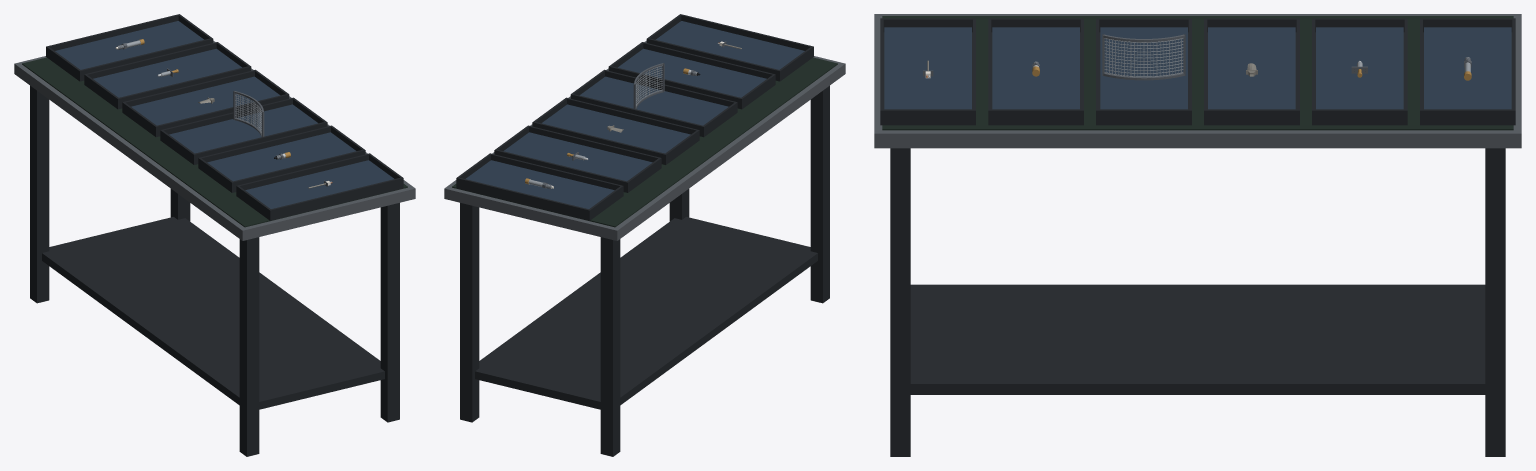
File: piezas.glb
3 views of the same model, side by side, from view 1: azimuth 30°, elevation 25°; view 2: azimuth 150°, elevation 25°; view 3: azimuth 270°, elevation 25° (orthographic). The views are drawn at different scales.
Visible parts, largest first — view 1: banco_componentes, pieza_malla; view 2: banco_componentes, pieza_malla; view 3: banco_componentes, pieza_malla.
Part boxes in pixels (bbox=[...]): banco_componentes: bbox=[14, 14, 415, 456]; pieza_malla: bbox=[233, 91, 264, 136]; banco_componentes: bbox=[444, 14, 845, 456]; pieza_malla: bbox=[633, 63, 664, 109]; banco_componentes: bbox=[874, 14, 1521, 456]; pieza_malla: bbox=[1102, 34, 1185, 80].
Size of the model in its own units: 0.7 by 1.03 by 1.6.
